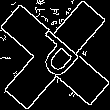P_SE: (24, 24, 86, 86)
